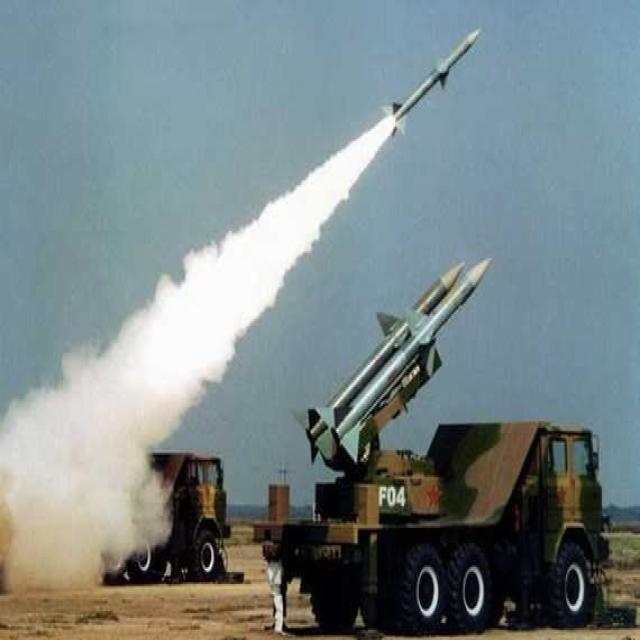missile: (305, 249, 492, 472), (304, 258, 466, 424), (387, 24, 485, 132)
